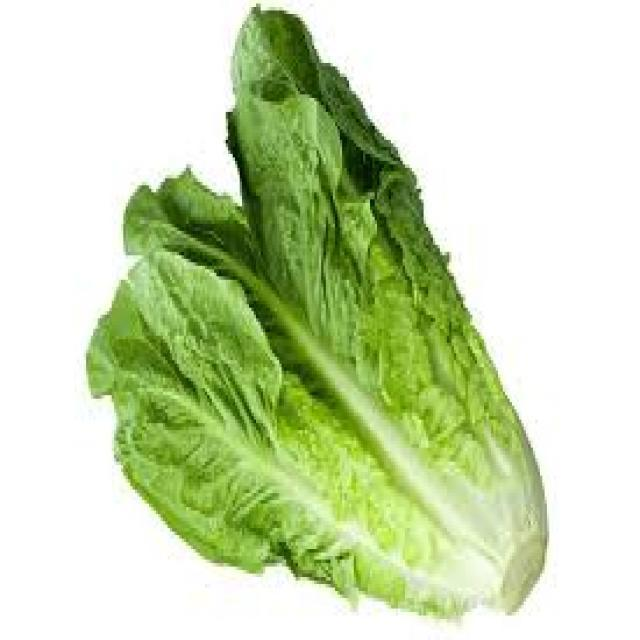Lettuce: (95, 5, 550, 625)
